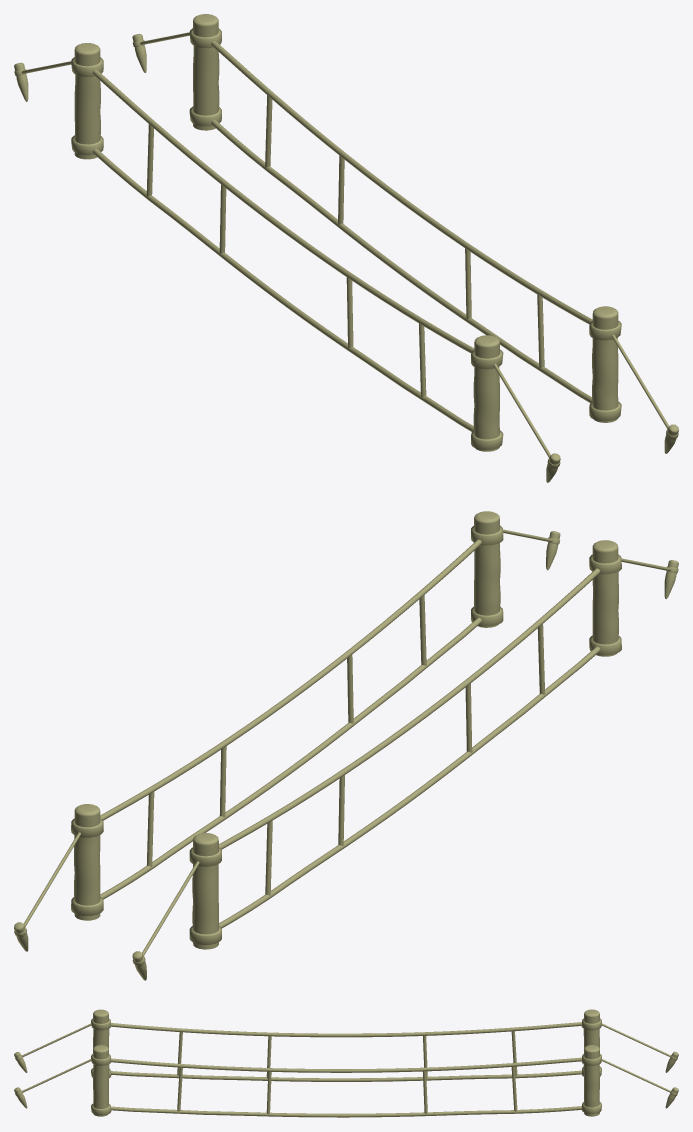
The model's file is Puente.fbx.
3 views of the same model, one above another, from view 1: azimuth 30°, elevation 25°; view 2: azimuth 150°, elevation 25°; view 3: azimuth 270°, elevation 25° (orthographic). The views are drawn at different scales.
Parts seen in each view (by area): view 1: Puente1; view 2: Puente1; view 3: Puente1.
Part boxes in pixels (x1=…): Puente1: x1=14, y1=14, x2=678, y2=482; Puente1: x1=14, y1=511, x2=678, y2=980; Puente1: x1=14, y1=1009, x2=678, y2=1117.
Size of the model in its own units: 3.73 by 2.75 by 23.75.
